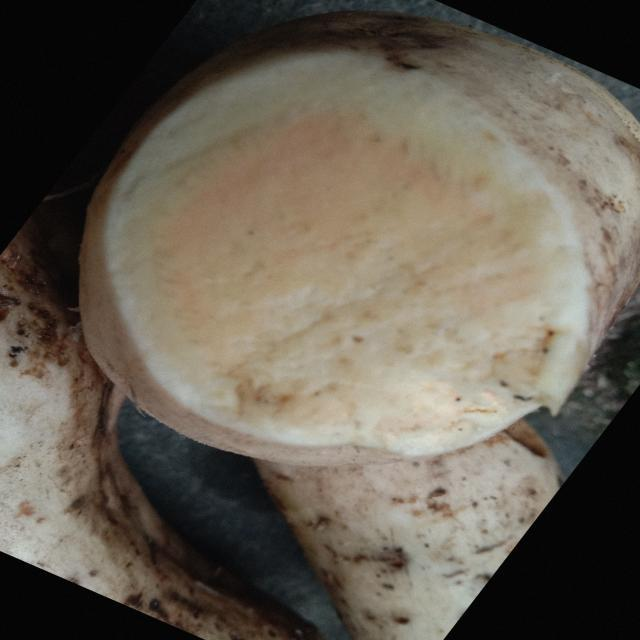Healthy Sweet Potato: (105, 52, 588, 455)
